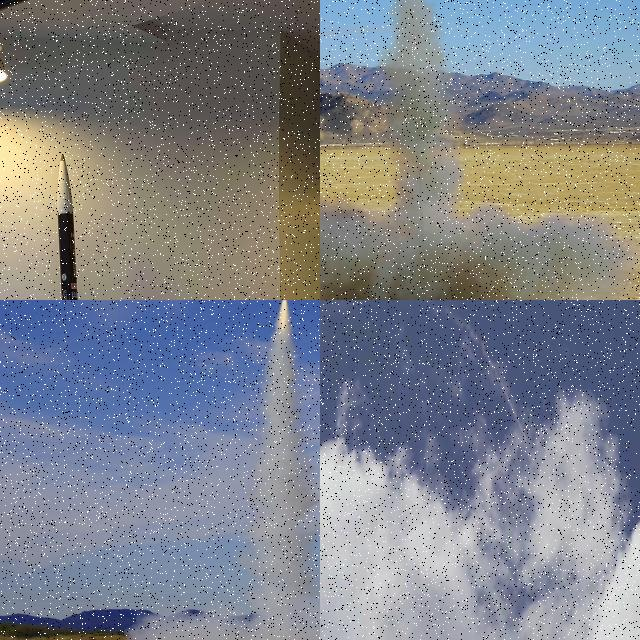Rocket: (57, 154, 78, 300), (526, 439, 528, 442)
